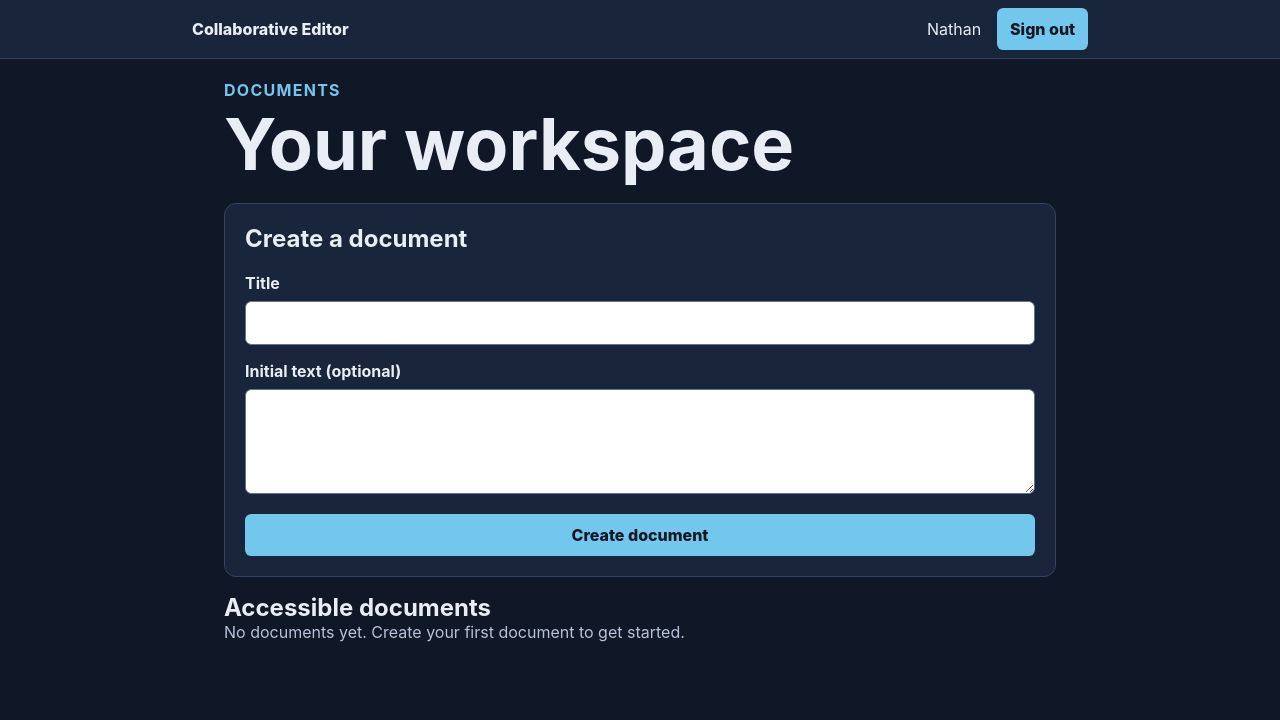
Scenario: authentication flows › logs out and clears the authenticated route
This screenshot has width=1280, height=720.
Expected: the heading "Your workspace" is shown, x1=224 y1=100 x2=794 y2=187
What coordinates should you click on to do the following:
click the button "Sign out"
I would click on:
 (1043, 29)
Its box is x1=997 y1=8 x2=1088 y2=50.
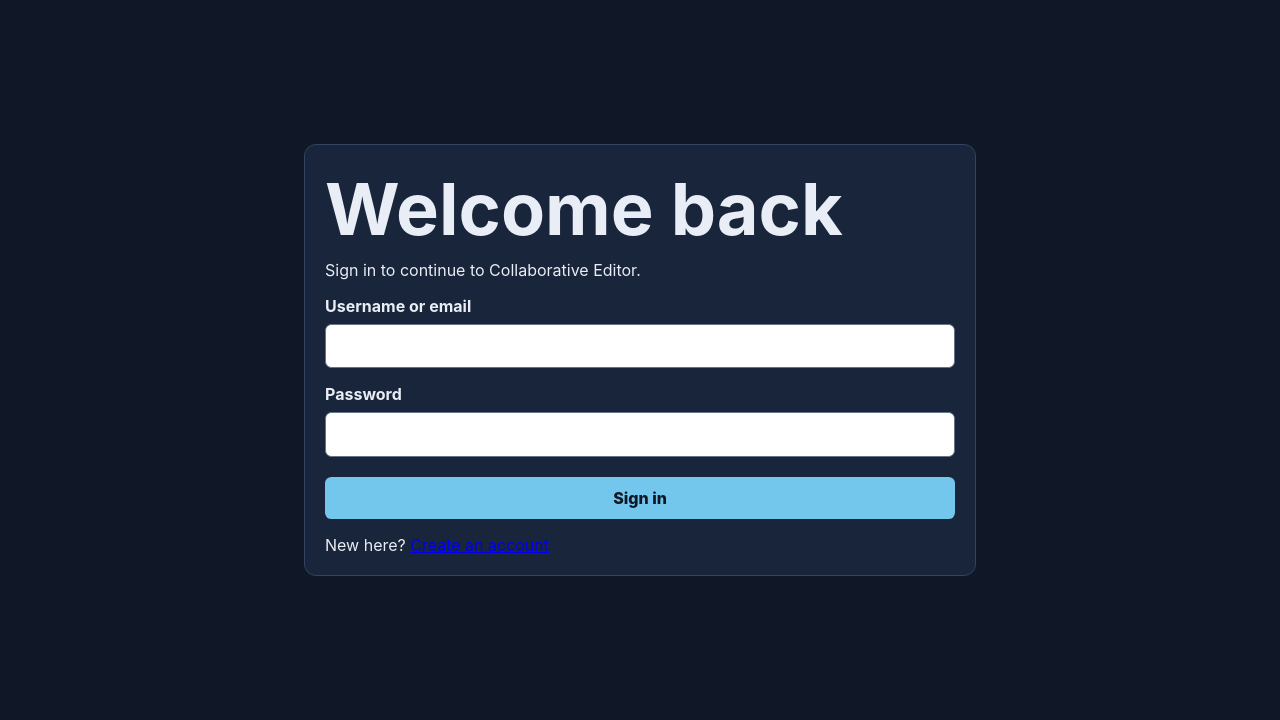
Now the heading "Welcome back" is shown, box x1=325 y1=165 x2=843 y2=252
